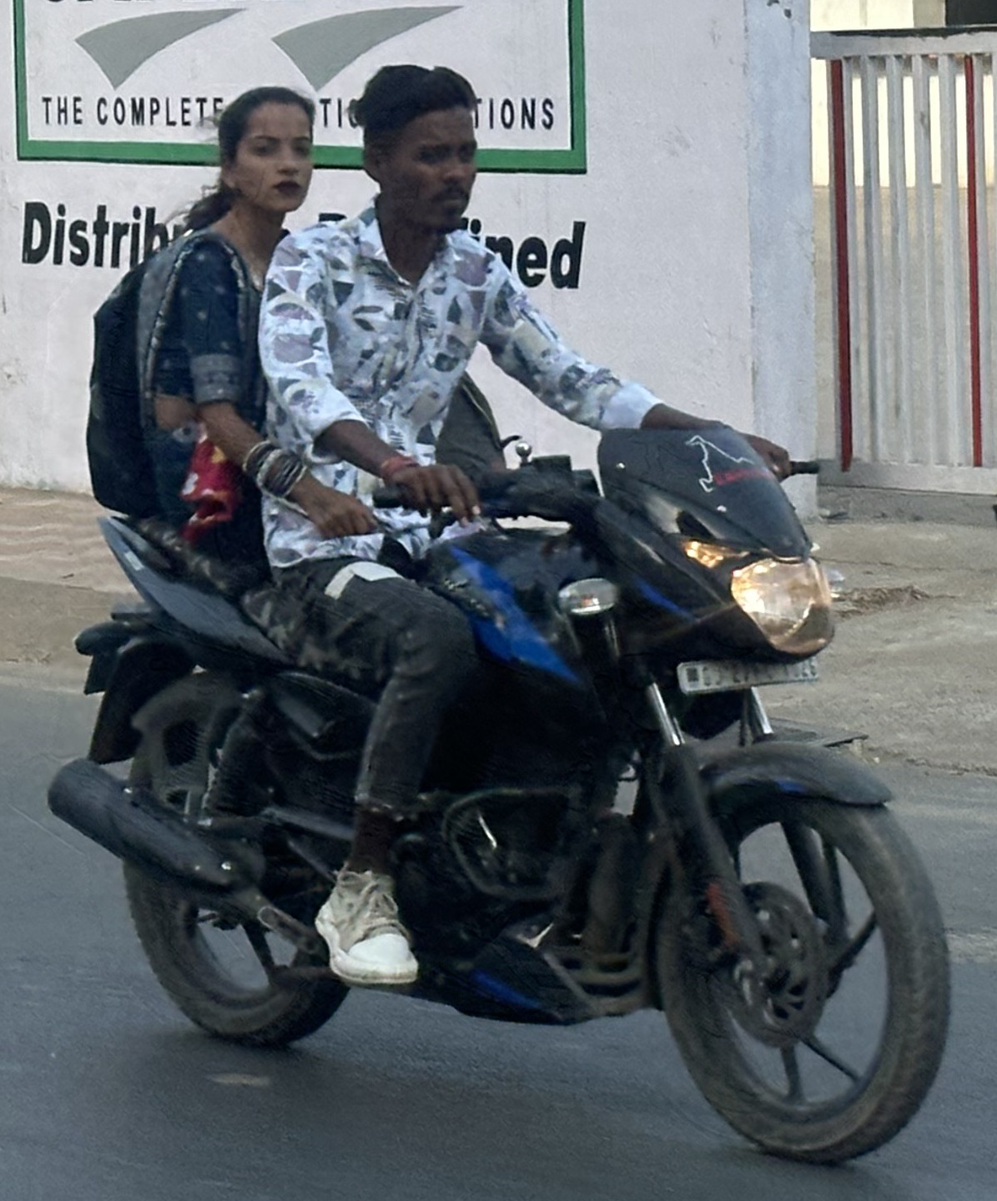BikeWithRider: (38, 26, 984, 1164)
NoHelmet: (346, 58, 502, 237), (200, 83, 335, 219)
